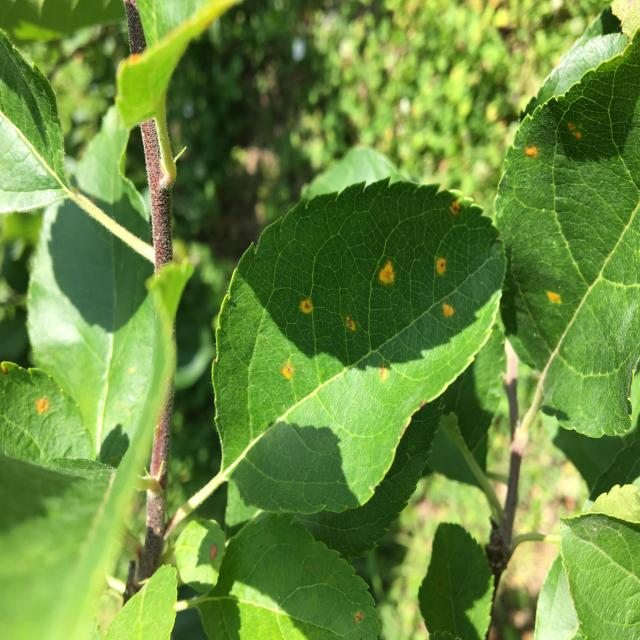rust: (210, 178, 508, 515), (492, 31, 640, 442), (0, 360, 93, 467)
